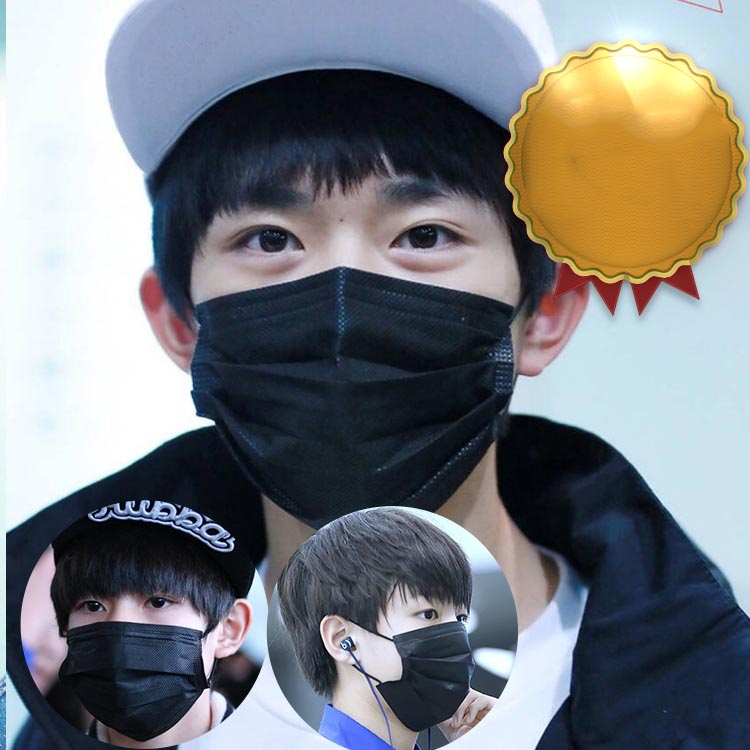face_mask: (193, 108, 512, 488), (63, 540, 211, 719), (364, 570, 469, 714)
